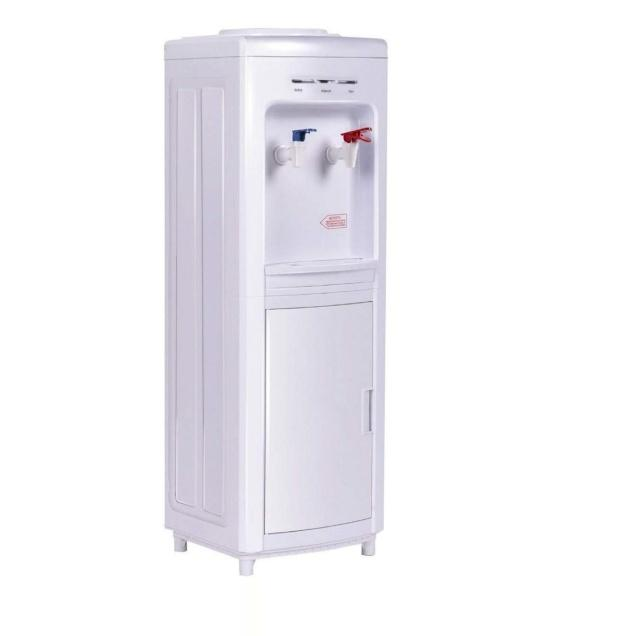Dispenser: (163, 27, 388, 576)
